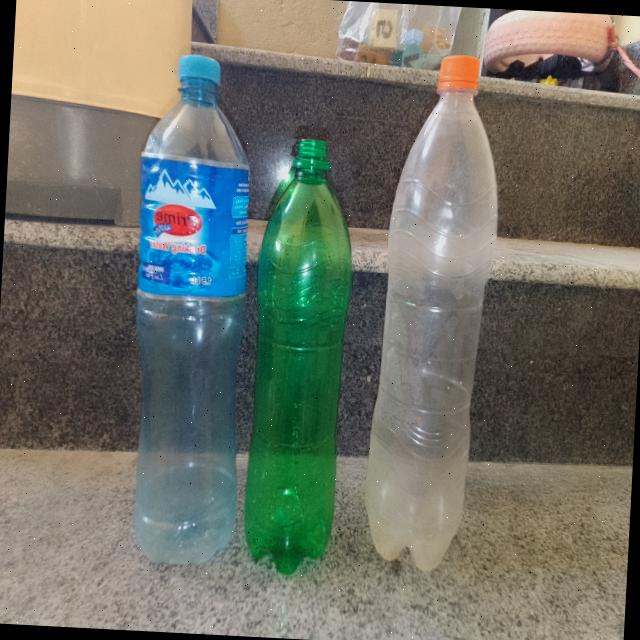bottle: (355, 34, 515, 584), (104, 34, 263, 581), (240, 120, 366, 572)
cap: (426, 48, 491, 110), (170, 50, 228, 100)
label: (132, 146, 257, 312)
